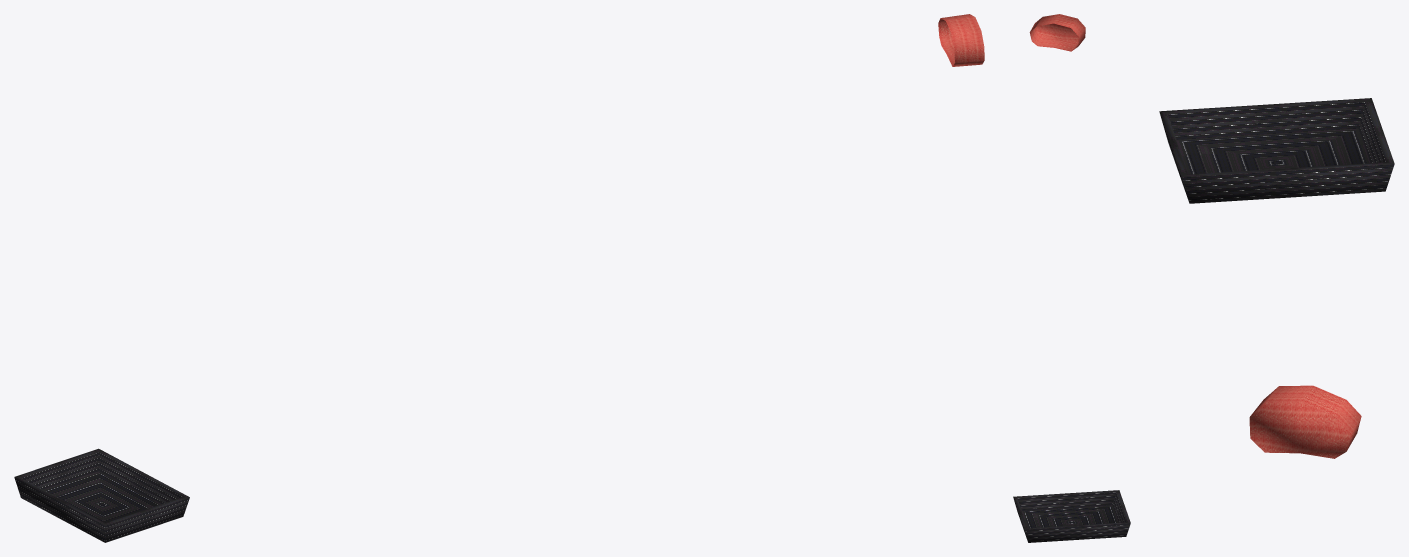
The model's file is 1132item603r.gltf.
3 renders of one model, left to right at view 1: azimuth 90°, elevation 25°; view 2: azimuth 150°, elevation 25°; view 3: azimuth 330°, elevation 25°, orthographic. The views are drawn at different scales.
Parts seen in each view (by area): view 1: 1132item603r; view 2: 1132item603r; view 3: 1132item603r.
Boxes of the visible parts, x1=… form: 1132item603r: x1=14, y1=14, x2=984, y2=542; 1132item603r: x1=1013, y1=14, x2=1130, y2=542; 1132item603r: x1=1159, y1=98, x2=1394, y2=458.
Size of what is drawn, in the model's own units: 5.18 by 2.37 by 7.74.
Materials: 2 (2 with a texture image).
